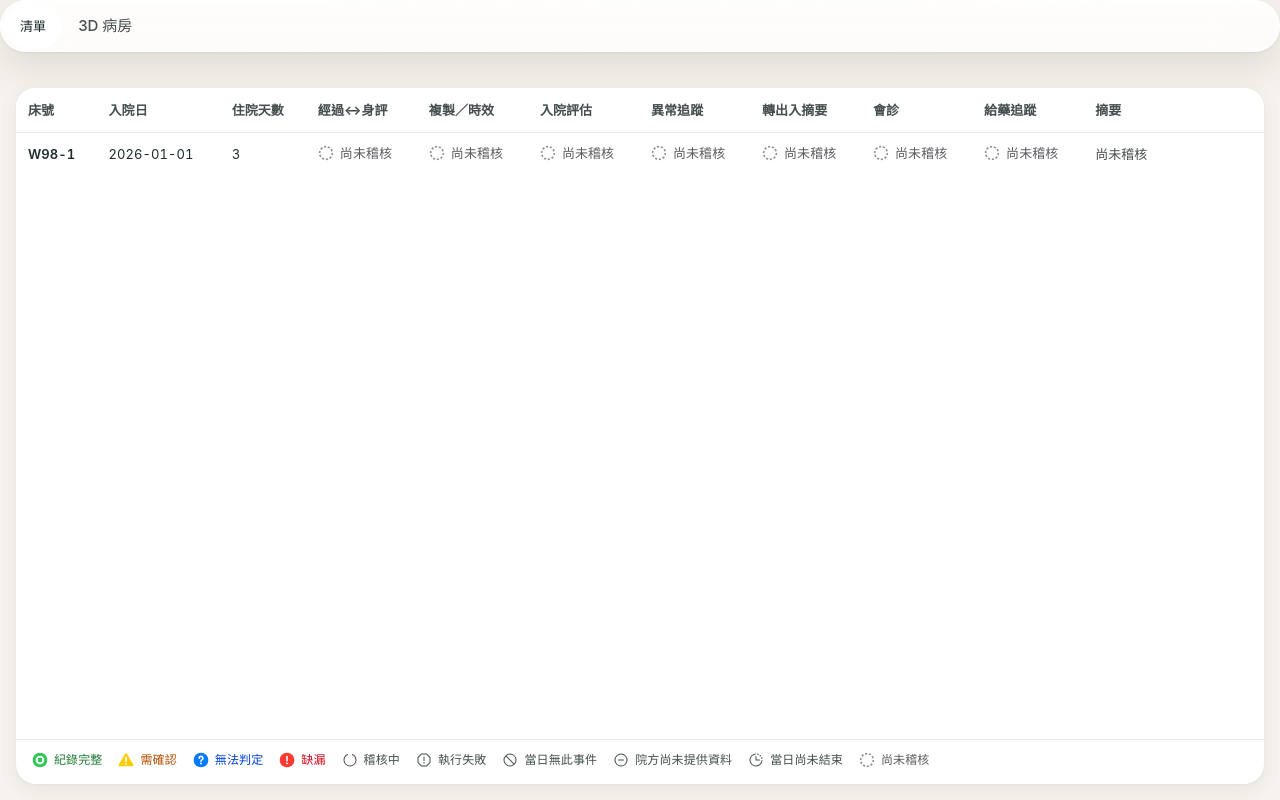
預設清單，切換 3D 後保留選床，切回後詳情仍開啟，Esc 焦點回原列
The width and height of the screenshot is (1280, 800).
Later steps or results of the test are not shown.
Expected: the table is shown, top-left (16, 88), bottom-right (1264, 176)
Click the row "W98-1 2026-01-01 3 尚未稽核 尚未稽核 尚未稽核 尚未稽核 尚未稽核 尚未稽核 尚未稽核 尚未稽核" at (640, 154), box top-left (16, 132), bottom-right (1264, 176)
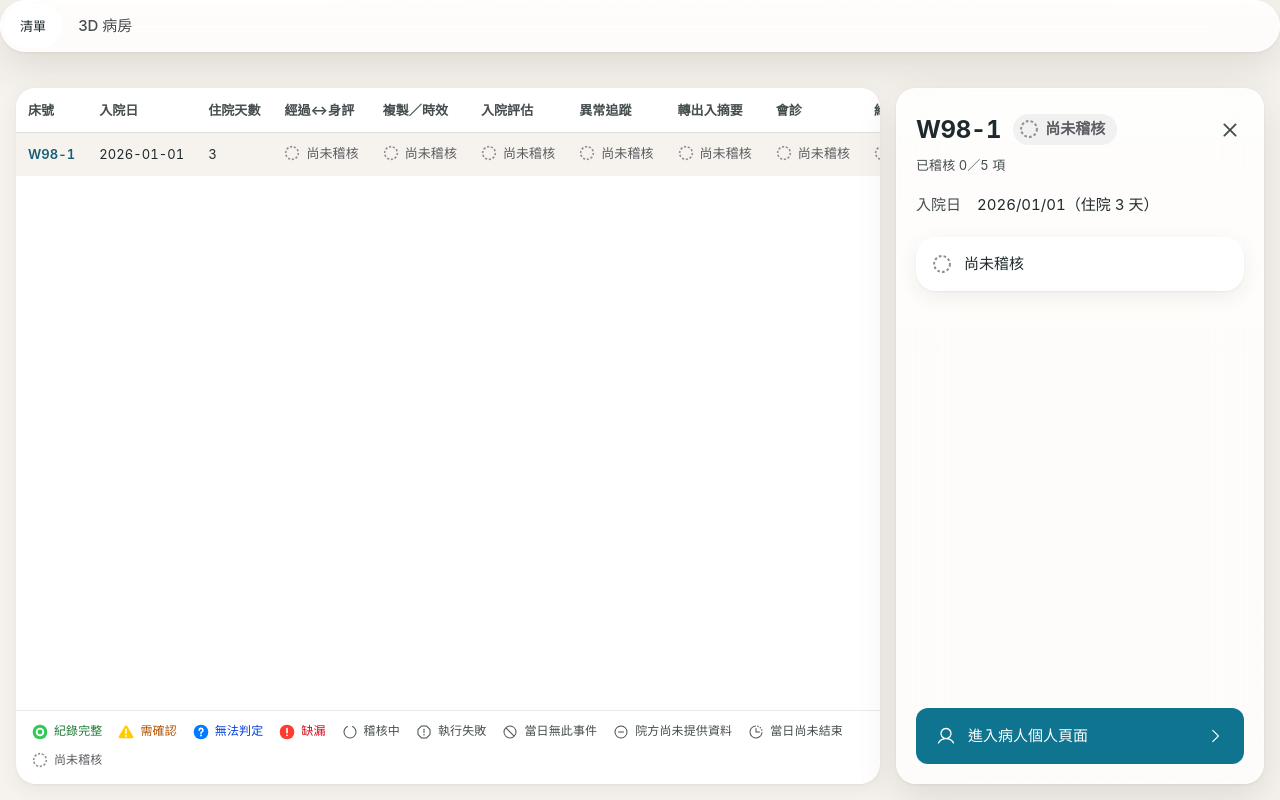
Expected: the button "3D 病房" is shown, top-left (62, 4), bottom-right (148, 48)
Expected: the element with id "bed-detail" is shown, top-left (896, 88), bottom-right (1264, 784)
